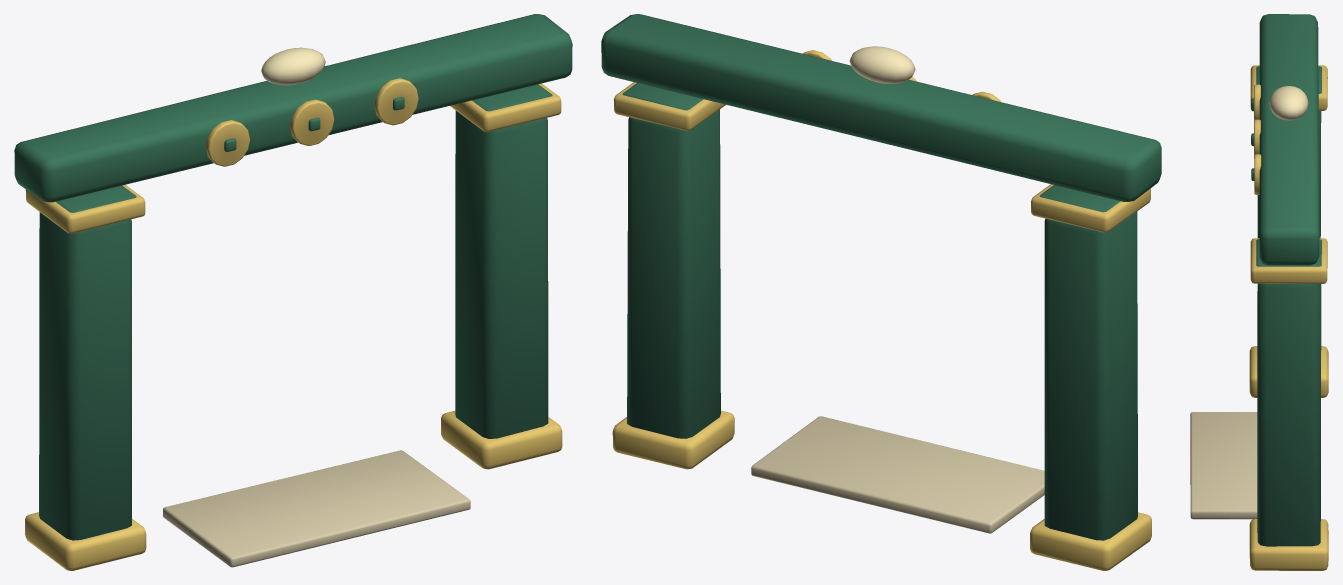
3 views of the same model, side by side, from view 1: azimuth 30°, elevation 25°; view 2: azimuth 150°, elevation 25°; view 3: azimuth 270°, elevation 25° (orthographic). The views are drawn at different scales.
Visible parts, largest first — view 1: gate_d94f576b; view 2: gate_d94f576b; view 3: gate_d94f576b.
Part boxes in pixels (x1,y1,x2,y2): gate_d94f576b: (14,14,572,570); gate_d94f576b: (601,14,1161,570); gate_d94f576b: (1190,14,1328,570).
Size of the model in its own units: 5.31 by 4.25 by 1.4.
